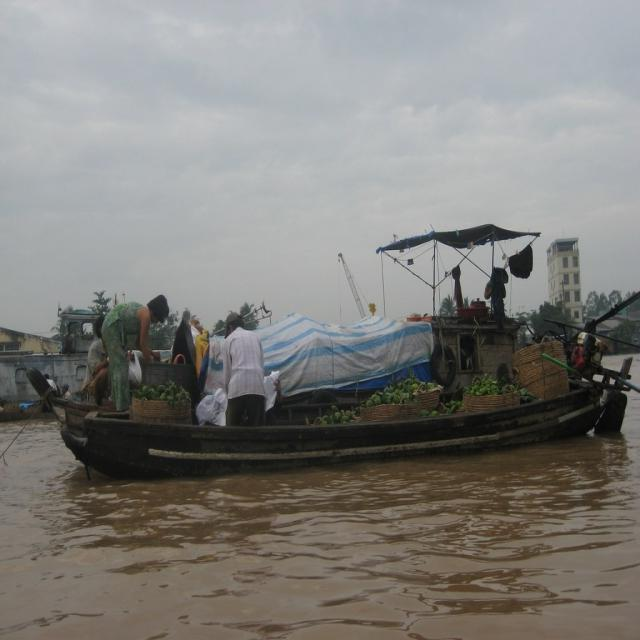boat: (44, 375, 628, 473)
